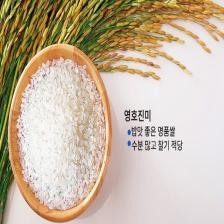rice: (17, 57, 104, 208)
